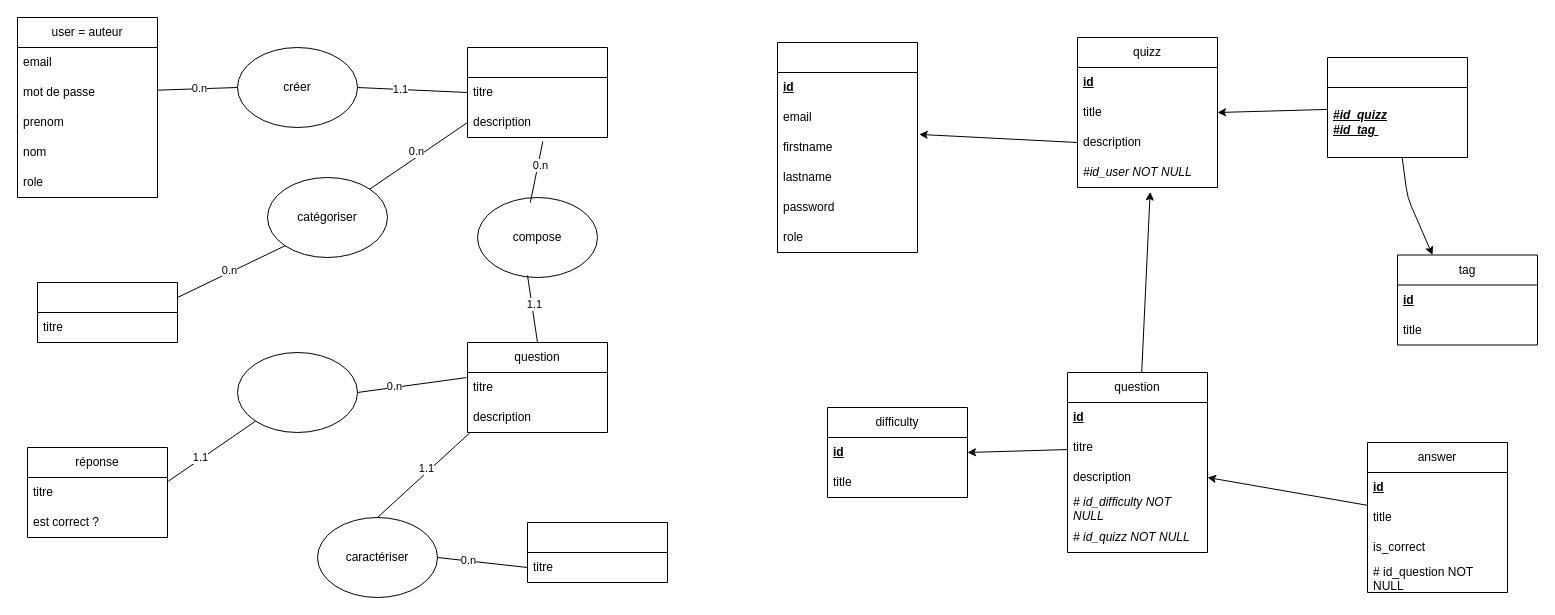
Some shapes in this 1555 by 615 pixel diagram are drawn without their labels. Each missing label, with the box of its shape:
app_user: (776, 42, 918, 252)
difficulté: (526, 522, 668, 582)
quiz: (466, 46, 608, 138)
quizz_tag: (1326, 56, 1468, 158)
résoudre: (236, 352, 358, 432)
tags: (36, 282, 178, 342)
